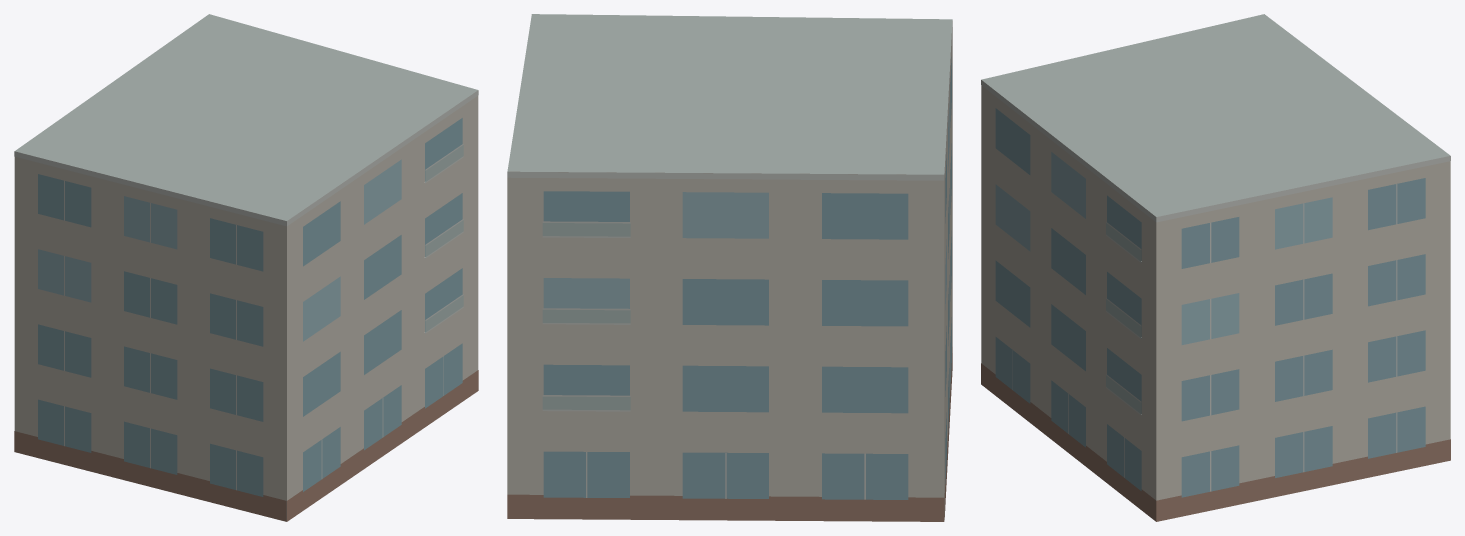
File: survey-upis-33011103.glb
3 renders of one model, left to right at view 1: azimuth 30°, elevation 25°; view 2: azimuth 150°, elevation 25°; view 3: azimuth 270°, elevation 25°, orthographic. The views are drawn at different scales.
Parts seen in each view (by area): view 1: survey-upis-33011103.tmp; view 2: survey-upis-33011103.tmp; view 3: survey-upis-33011103.tmp.
Part boxes in pixels (x1,y1,x2,y2): survey-upis-33011103.tmp: (14, 14, 478, 521); survey-upis-33011103.tmp: (507, 14, 952, 521); survey-upis-33011103.tmp: (981, 14, 1450, 521).
Size of the model in its own units: 19.87 by 13.9 by 19.42.
